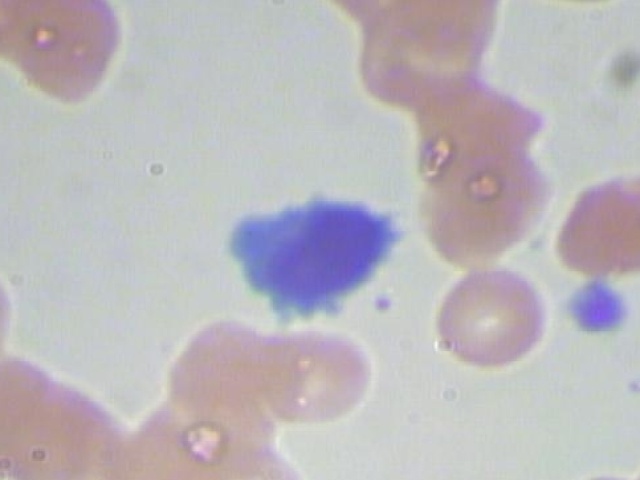Platelets: (551, 274, 631, 353)
RBC: (415, 261, 558, 377), (248, 313, 391, 429), (0, 0, 137, 119), (543, 169, 640, 285)
WBC: (217, 187, 419, 338)
